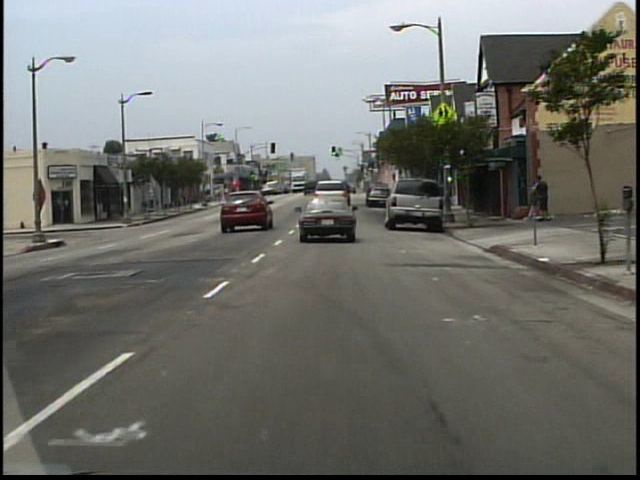person: (537, 176, 550, 220), (527, 179, 539, 222), (148, 188, 158, 214)
